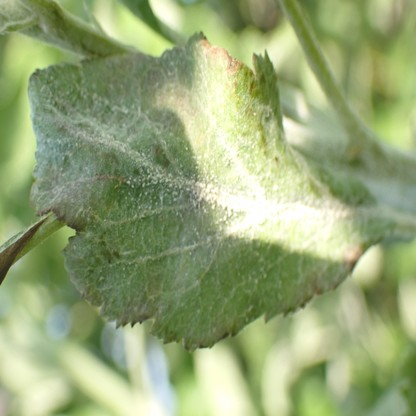powder: (29, 29, 381, 349), (0, 1, 32, 23)
